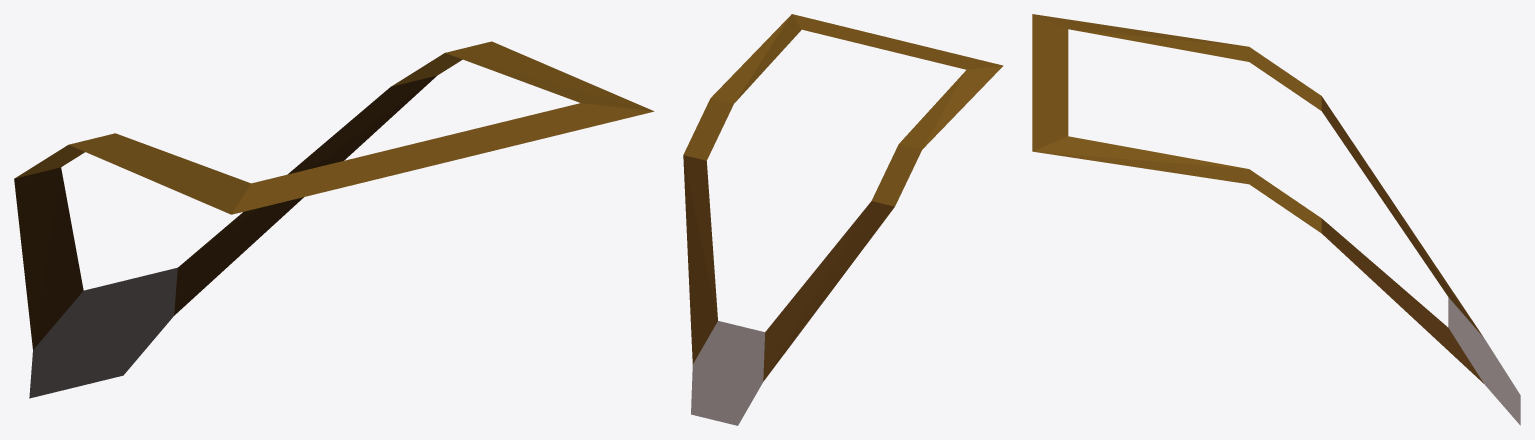
Rendered from npc_world_leatherworker_7.obj.
The picture shows the model from 3 angles, left to right: view 1: azimuth 30°, elevation 25°; view 2: azimuth 150°, elevation 25°; view 3: azimuth 270°, elevation 25°; orthographic projection. The views are drawn at different scales.
Size of the model in its own units: 0.1406 by 0.1562 by 0.2109.
